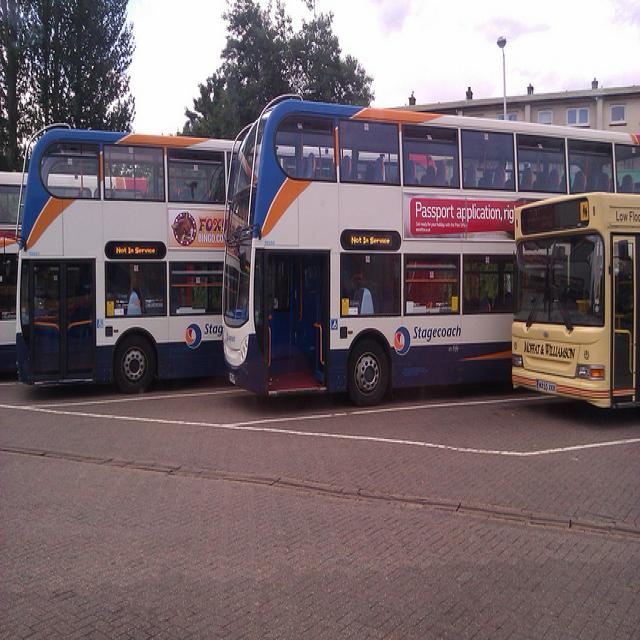Vehicle: (220, 95, 640, 407), (12, 121, 234, 394), (511, 192, 640, 411), (0, 170, 23, 380)
